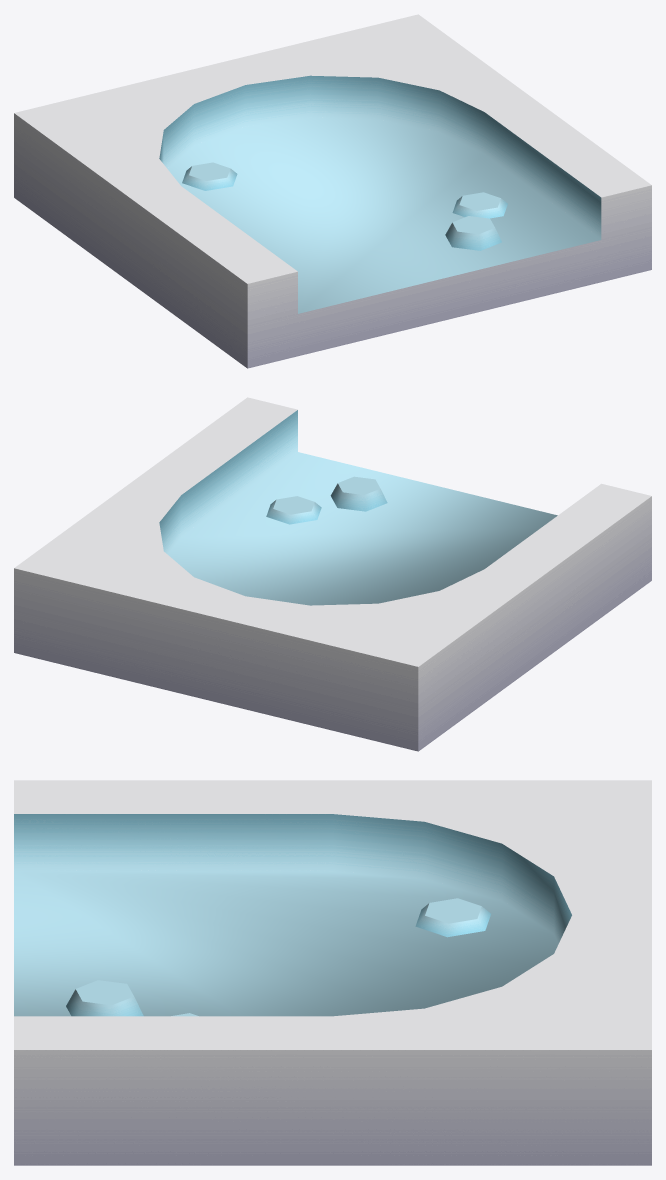
The model's file is tower-defense-kit--snow-tile-end-round.glb.
3 renders of one model, top to bottom at view 1: azimuth 30°, elevation 25°; view 2: azimuth 150°, elevation 25°; view 3: azimuth 270°, elevation 25°, orthographic. The views are drawn at different scales.
Visible parts, largest first — view 1: snow-tile-end-round; view 2: snow-tile-end-round; view 3: snow-tile-end-round.
Boxes of the visible parts, x1,y1,x2,y2 form: snow-tile-end-round: [14, 14, 651, 368]; snow-tile-end-round: [14, 397, 651, 751]; snow-tile-end-round: [14, 780, 651, 1165].
Size of the model in its own units: 1 by 0.2 by 1.
1 material, 1 textured.
